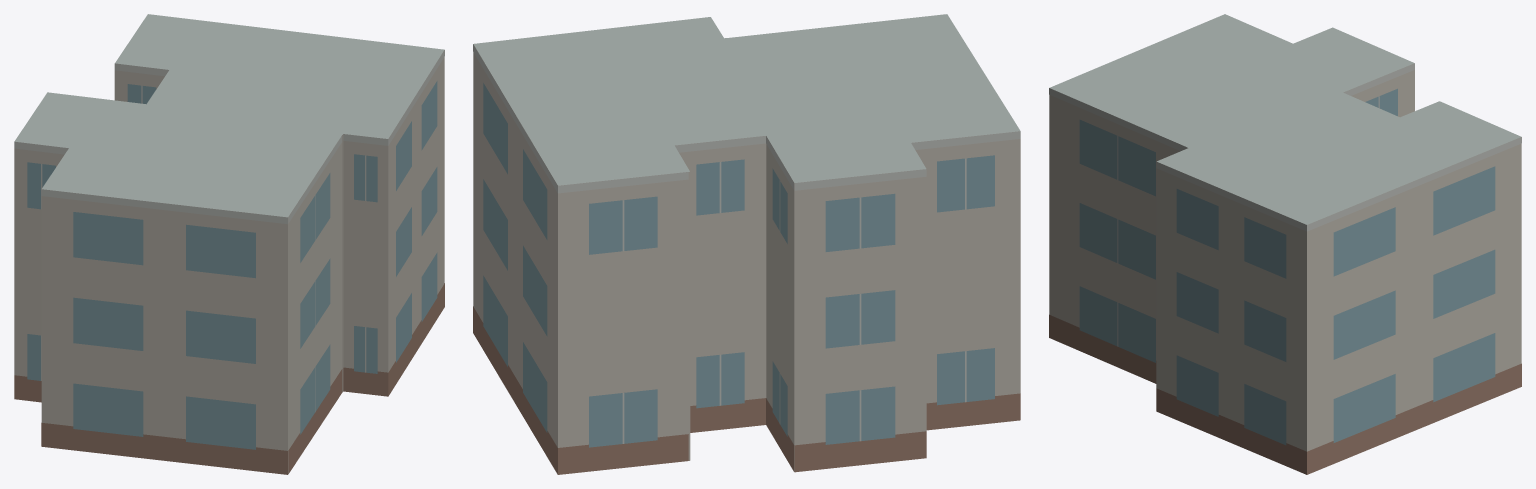
Rendered from survey-upis-32472479.glb.
The picture shows the model from 3 angles, left to right: view 1: azimuth 30°, elevation 25°; view 2: azimuth 150°, elevation 25°; view 3: azimuth 270°, elevation 25°; orthographic projection. The views are drawn at different scales.
Visible parts, largest first — view 1: survey-upis-32472479.tmp; view 2: survey-upis-32472479.tmp; view 3: survey-upis-32472479.tmp.
Part boxes in pixels (x1,y1,x2,y2): survey-upis-32472479.tmp: (14,14,444,474); survey-upis-32472479.tmp: (473,14,1020,474); survey-upis-32472479.tmp: (1049,14,1521,474).
Bounding box in the file's own units: 16.57 × 9.15 × 15.69.
